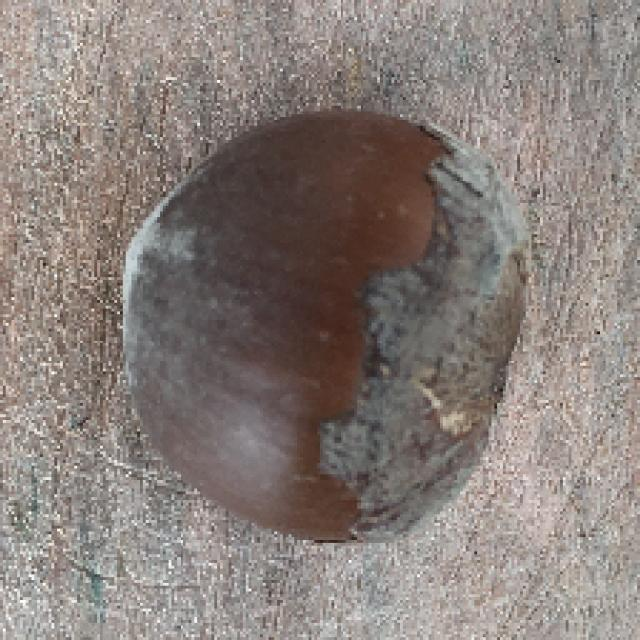damagedHazelnut: (114, 108, 534, 543)
